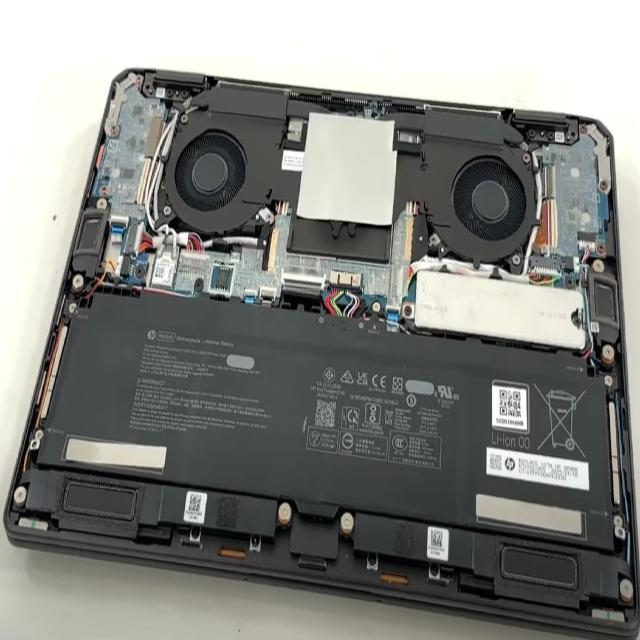battery: (62, 295, 477, 515)
ram: (149, 242, 175, 290)
ssd: (416, 275, 586, 352)
